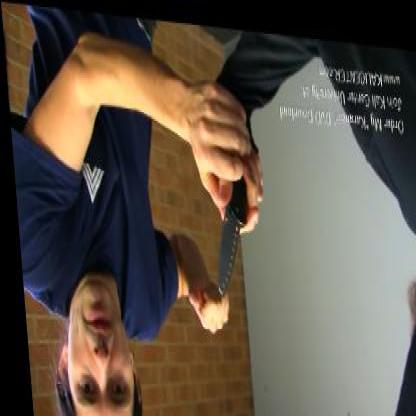knife: (202, 146, 272, 300)
